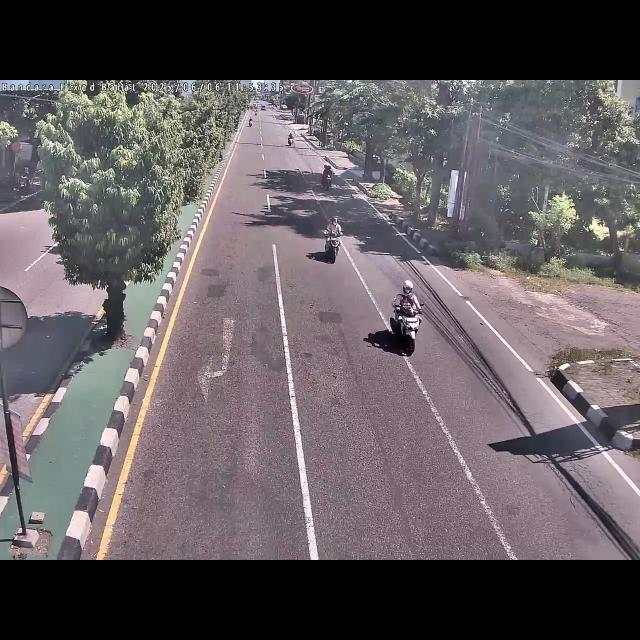Motor: (386, 276, 426, 360), (322, 213, 346, 265), (320, 160, 336, 198)
